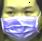with_mask: (1, 2, 42, 41)
